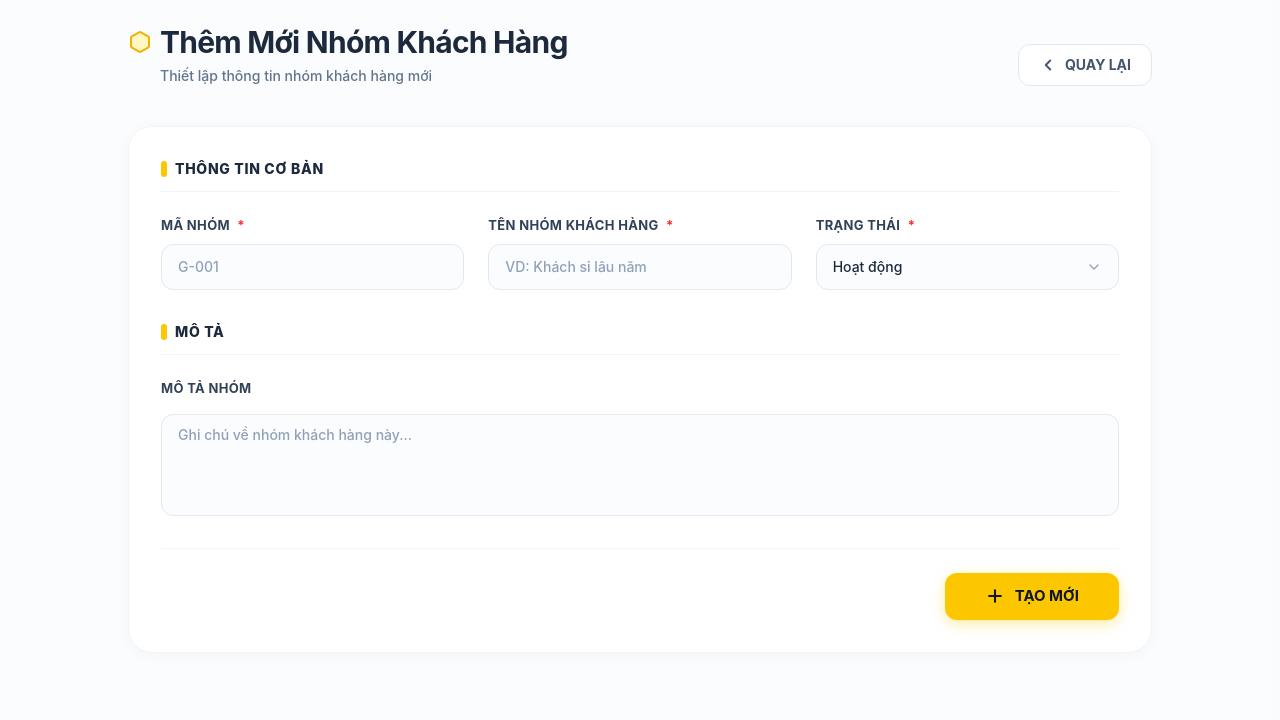
Test case: Module 06 - CustomerGroupForm Component › TC02 - Hiển thị lỗi validation khi submit dữ liệu trống
The width and height of the screenshot is (1280, 720).
Check: the heading "Thêm Mới Nhóm Khách Hàng" is shown, box [160, 24, 568, 60]
Click the button "TẠO MỚI".
click(1032, 596)  # box [945, 573, 1119, 620]
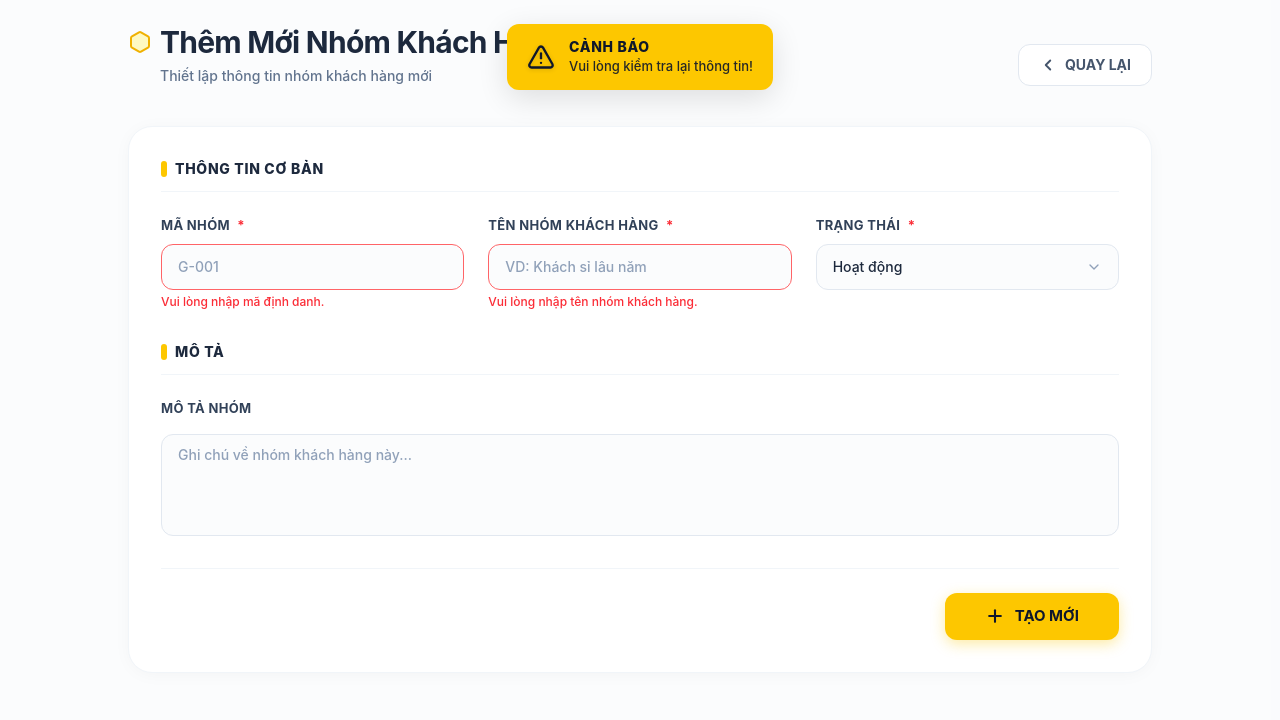
Check: the text "Vui lòng nhập mã định danh." is shown, box [161, 294, 324, 308]
Check: the text "Vui lòng nhập tên nhóm khách hàng." is shown, box [488, 294, 698, 308]
